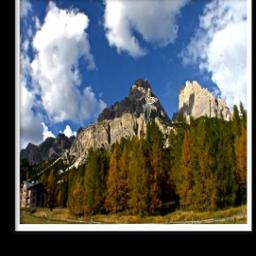Woodpecker: (143, 95, 158, 124)
